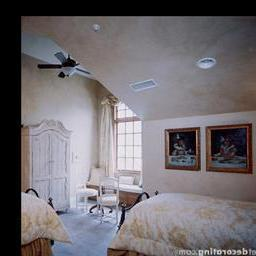Armario: (23, 122, 71, 207)
